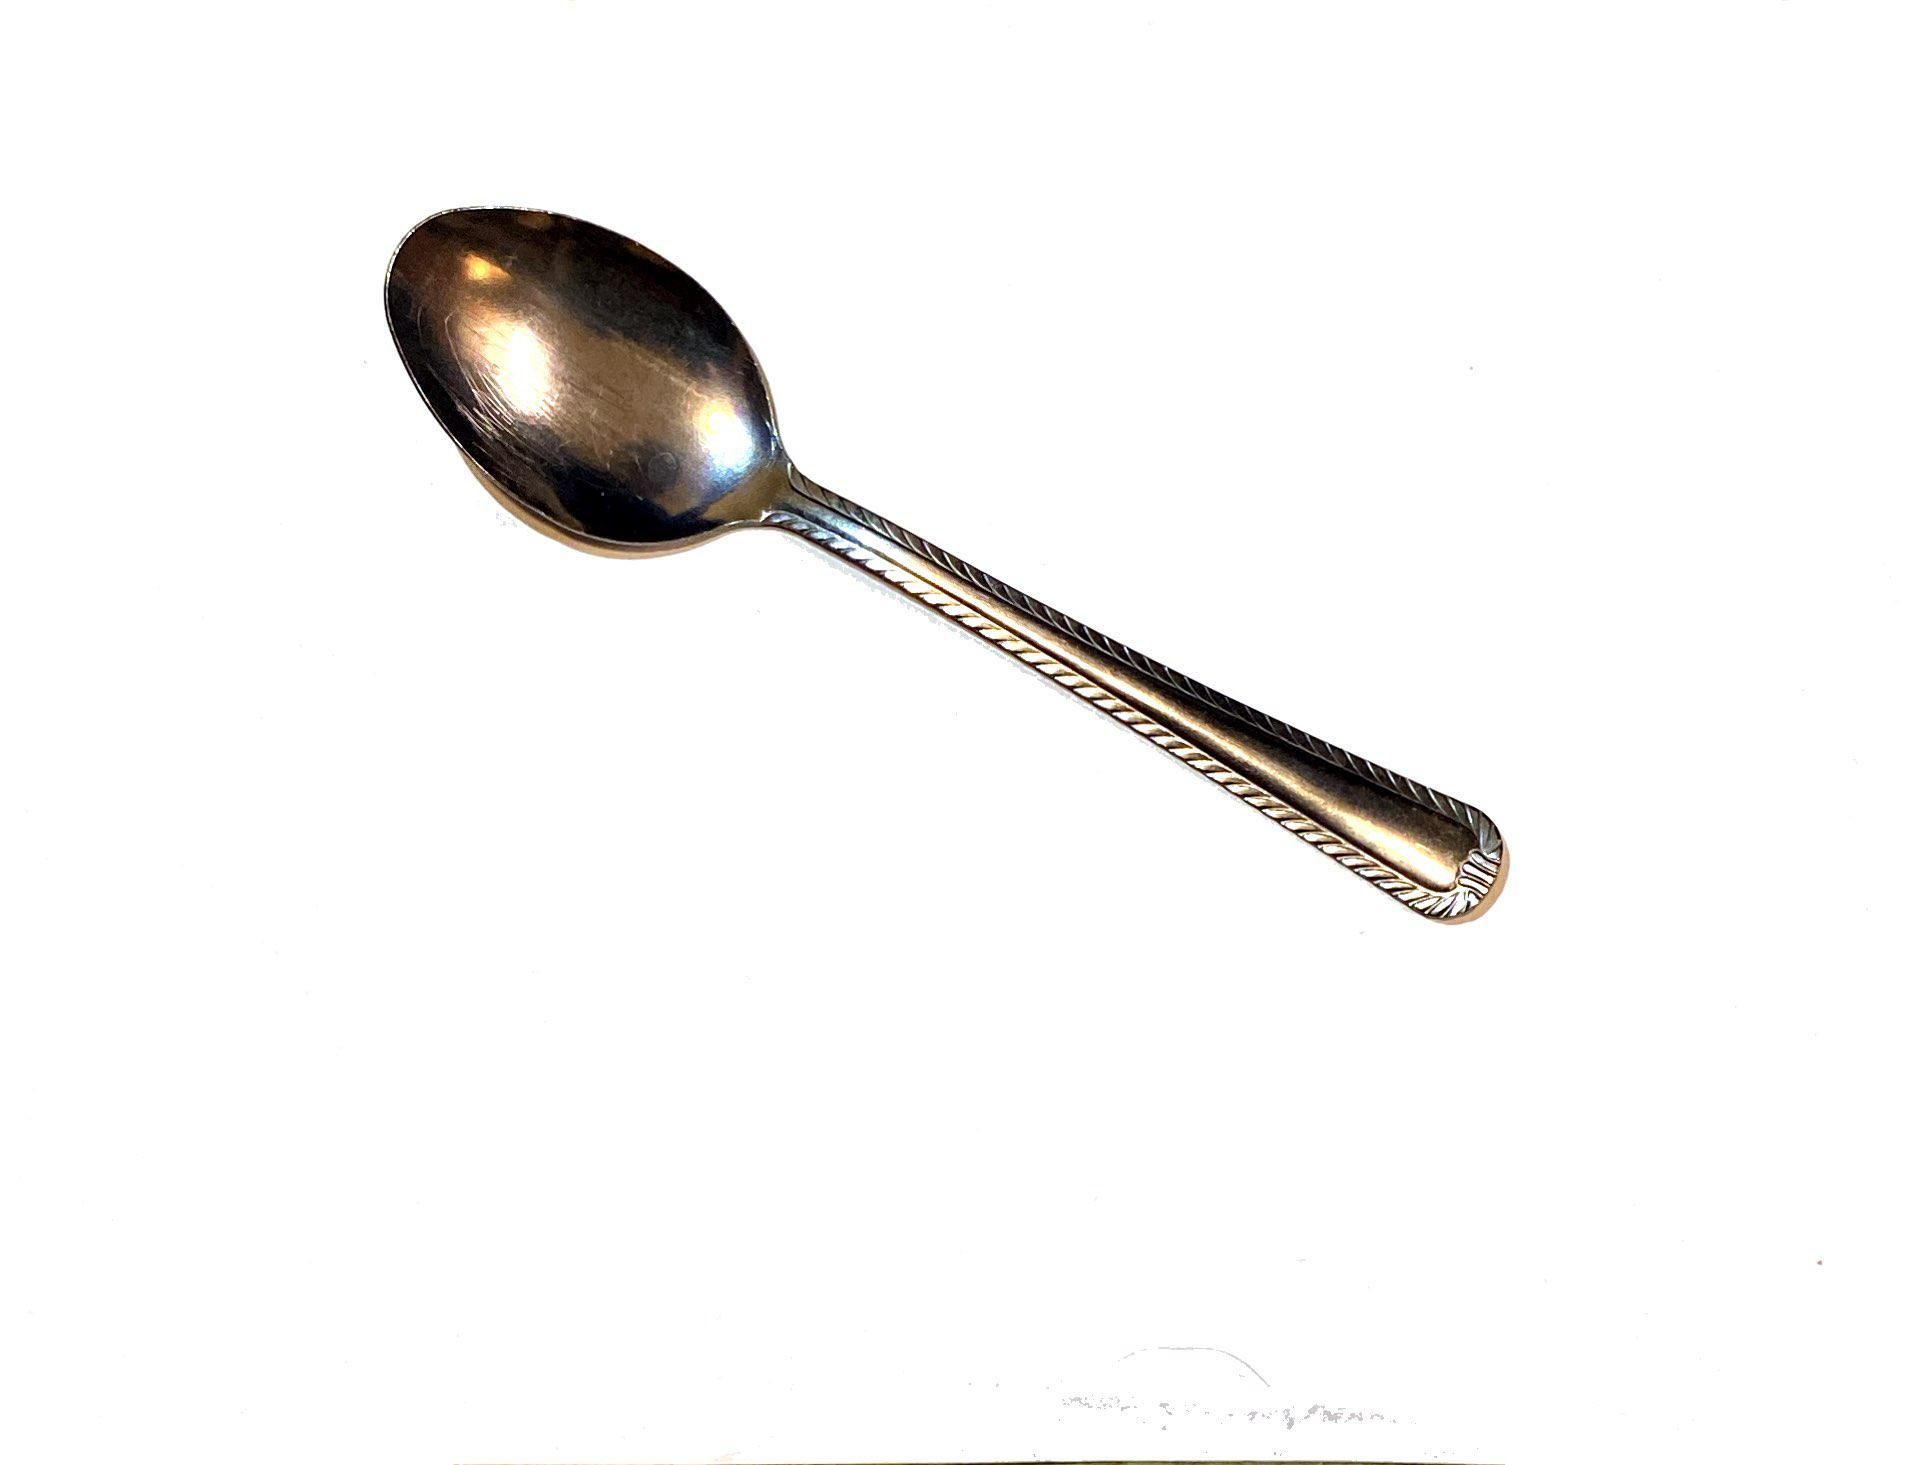Spoon: (348, 118, 1568, 1065)
